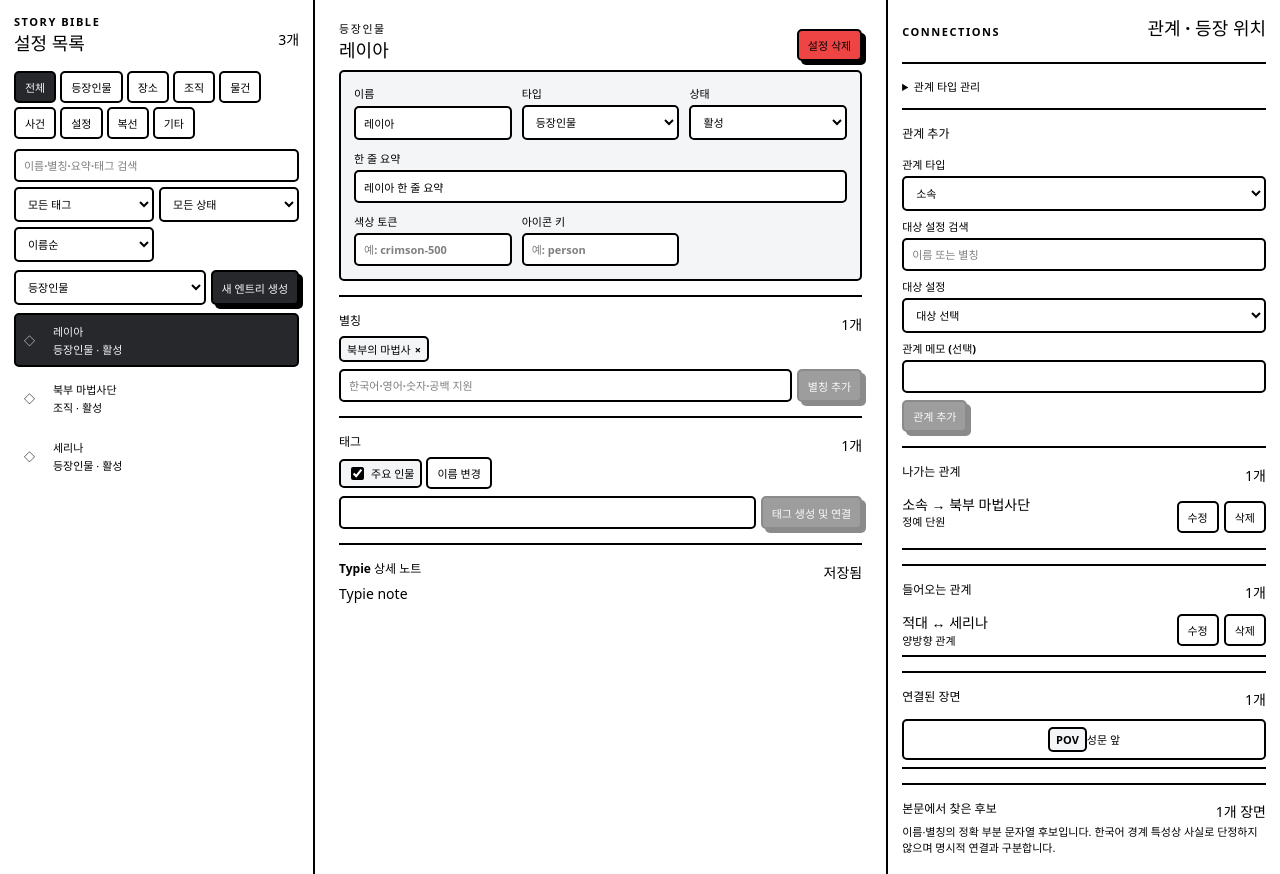
Phase 1C Story Bible workspace › keeps the tag rename draft and existing link when saving fails
Click the button with aria-label "주요 인물 태그 이름 변경" at x=459, y=473, box [426,457,492,489]
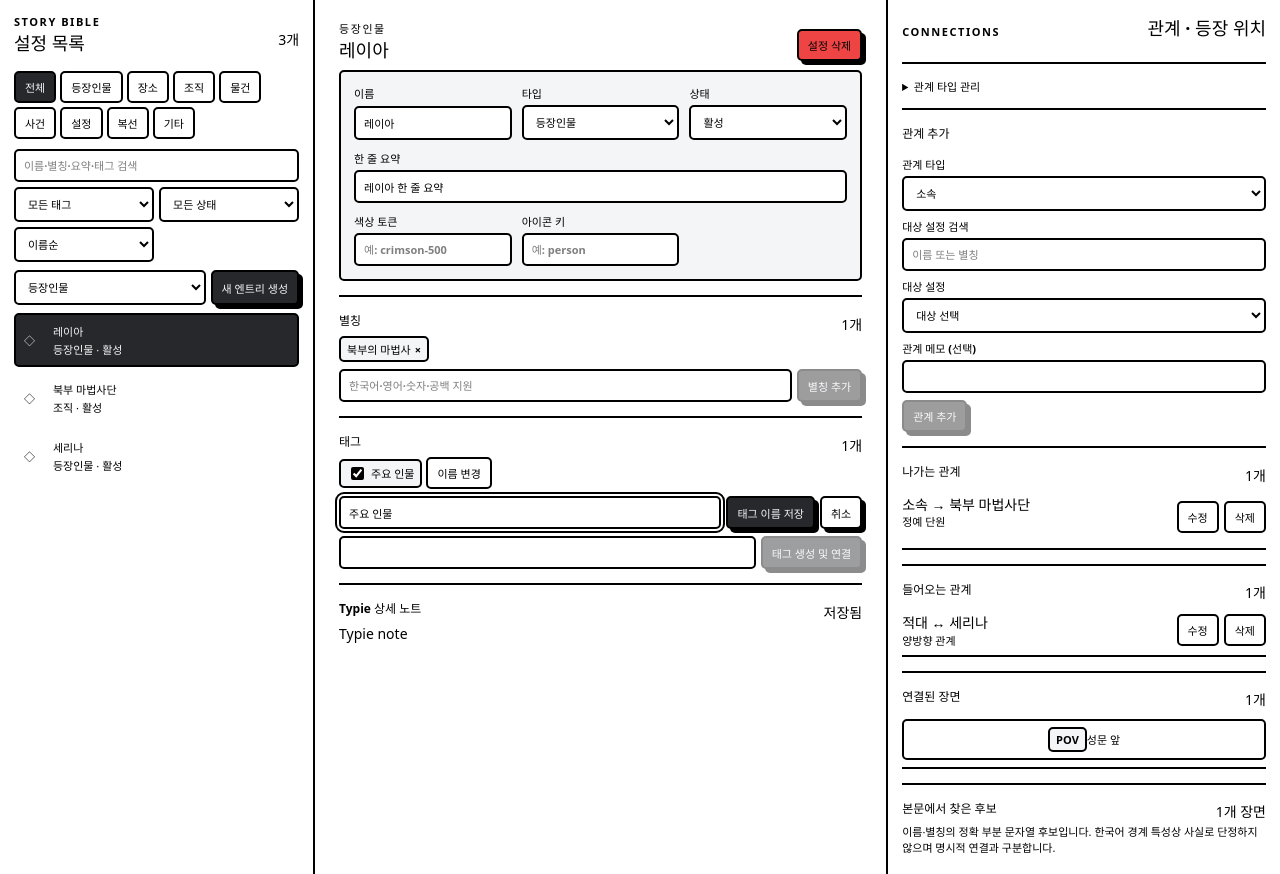
Replace the text in the field named "주요 인물 태그 이름" with "중심 인물" at x=530, y=512, box [339,496,722,529]
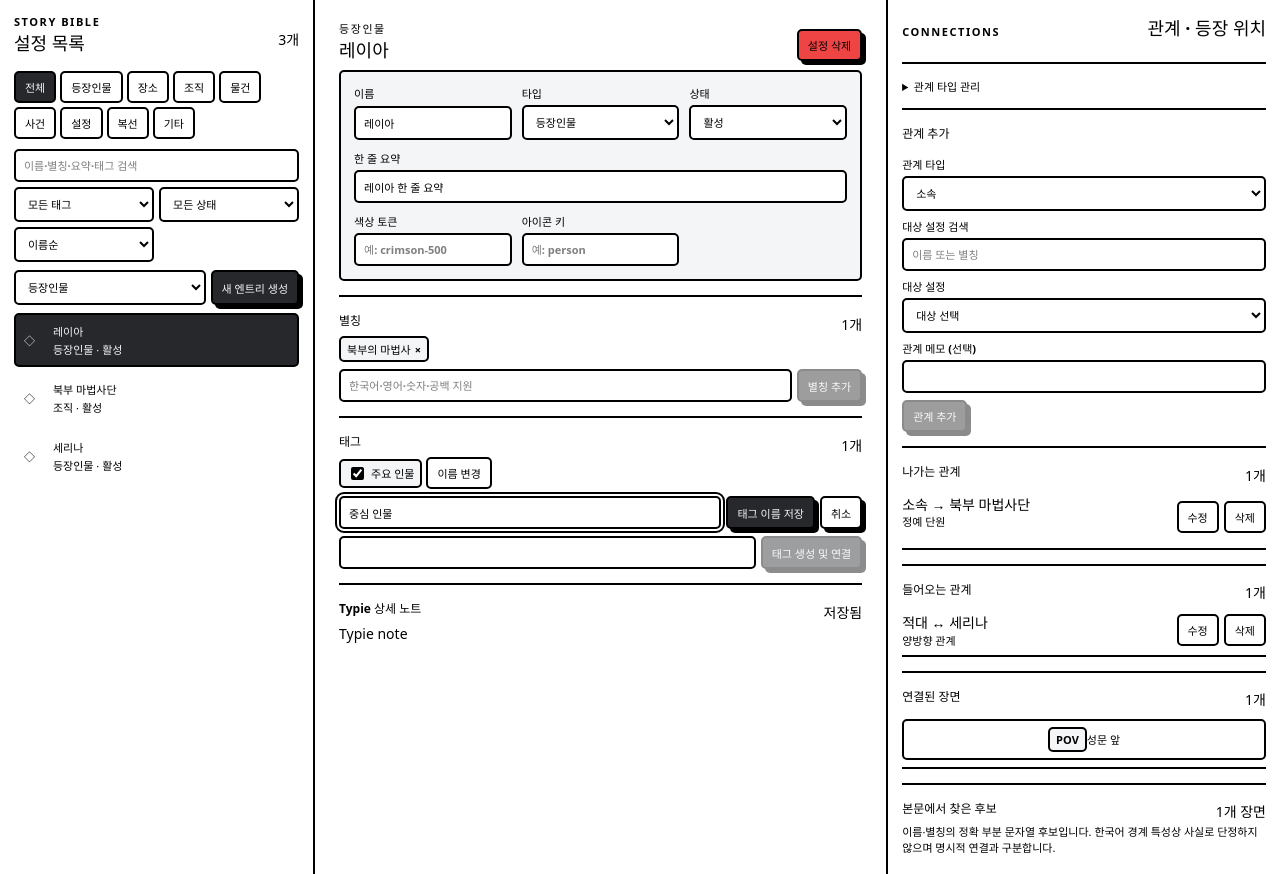
Click the button "태그 이름 저장" at x=771, y=512, box [726,496,815,529]
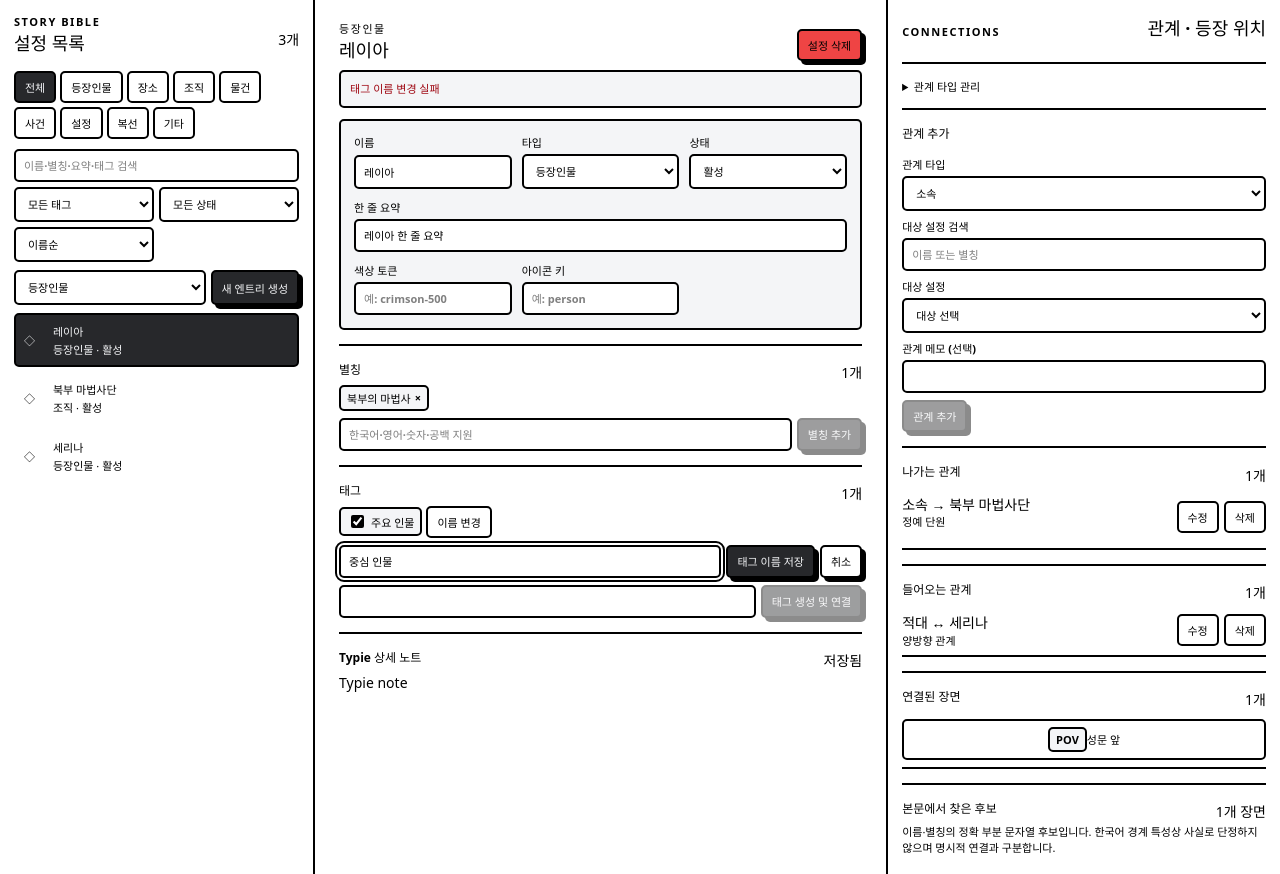
Expected: the checkbox labelled "주요 인물" is checked, [351,515,364,528]
Expected: the message reads "태그 이름 변경 실패", [350,81,440,96]
